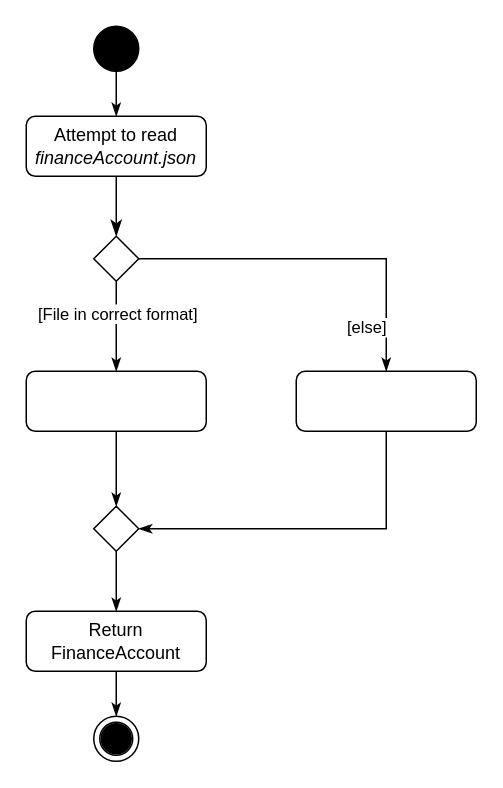
Some shapes in this 503 by 788 pixel diagram are drawn without their labels. Here are the shapes that lost their labels. From the top down, the centre of each, then its label:
At pixel 115 400: "Parse json into Java FinanceAccount".
At pixel 385 400: "Create an empty FinanceAccount".
